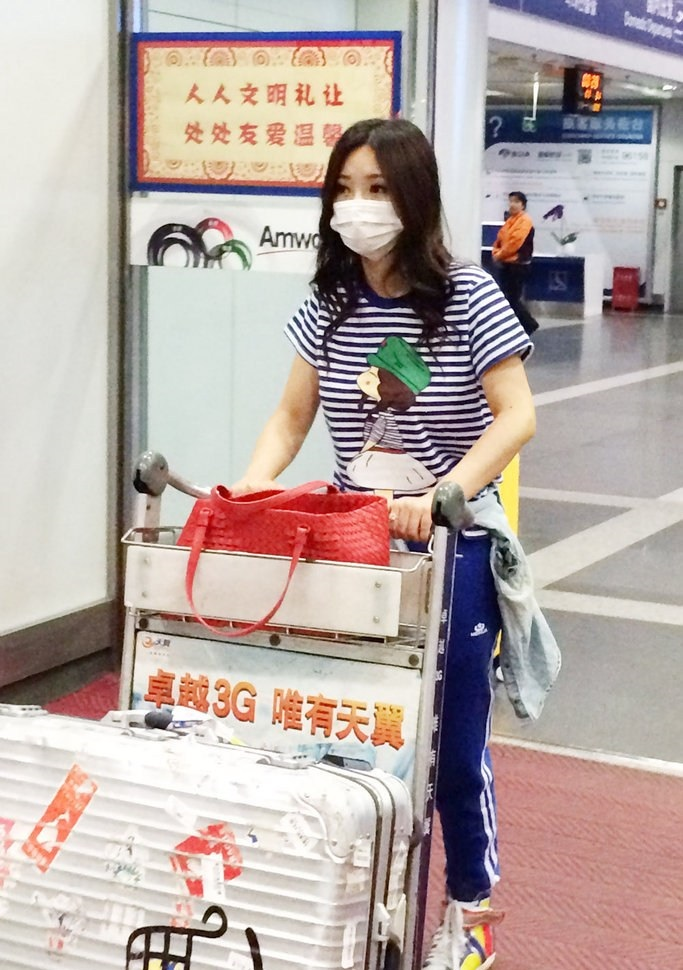face_mask: (333, 145, 399, 262)
